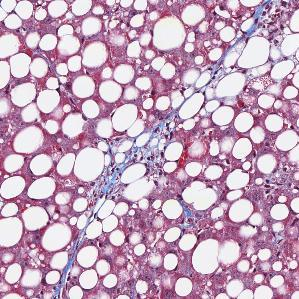fibrosis: (114, 138, 164, 166)
